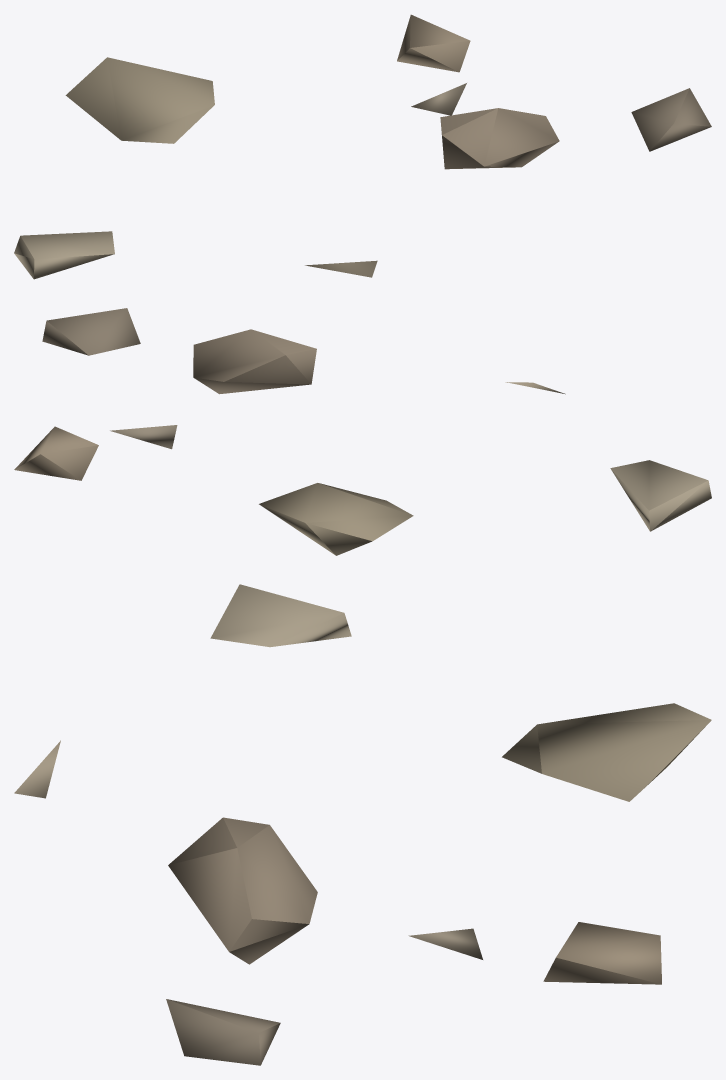
File: loose-rocks-far.glb
3 renders of one model, top to bottom at view 1: azimuth 30°, elevation 25°; view 2: azimuth 150°, elevation 25°; view 3: azimuth 270°, elevation 25°, orthographic. The views are drawn at different scales.
Size of the model in its own units: 0.4617 by 0.0458 by 0.2964.
